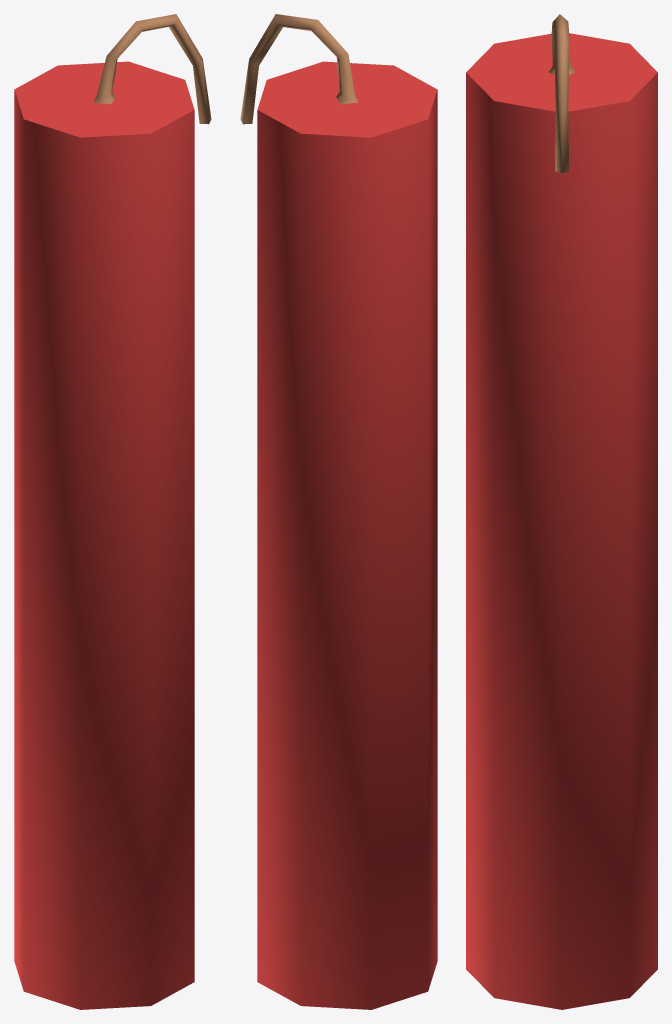
Rendered from Dinamite.fbx.
3 renders of one model, left to right at view 1: azimuth 30°, elevation 25°; view 2: azimuth 150°, elevation 25°; view 3: azimuth 270°, elevation 25°, orthographic. The views are drawn at different scales.
Parts seen in each view (by area): view 1: Dinamite.001; view 2: Dinamite.001; view 3: Dinamite.001.
Part boxes in pixels (x1=…): Dinamite.001: x1=14, y1=14, x2=211, y2=1009; Dinamite.001: x1=240, y1=14, x2=437, y2=1009; Dinamite.001: x1=466, y1=14, x2=657, y2=1009.
Bounding box in the file's own units: 0.0661 × 0.0768 × 0.369.
